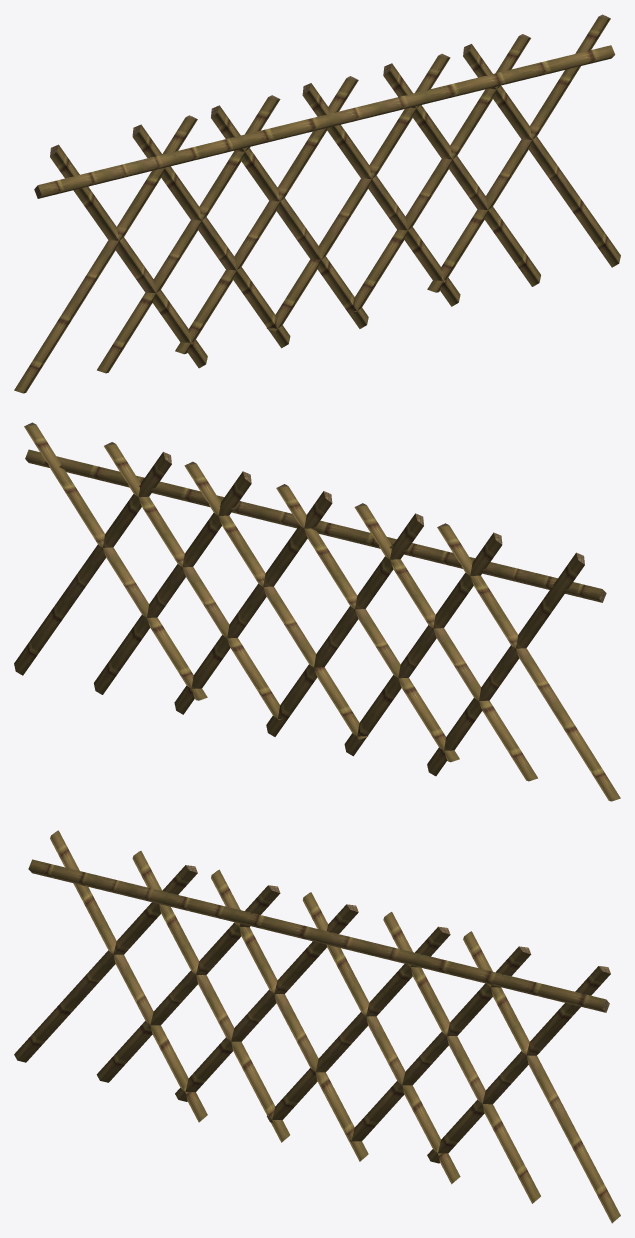
3 views of the same model, one above another, from view 1: azimuth 30°, elevation 25°; view 2: azimuth 150°, elevation 25°; view 3: azimuth 330°, elevation 25° (orthographic).
Parts seen in each view (by area): view 1: MB0003_04_01; view 2: MB0003_04_01; view 3: MB0003_04_01.
Boxes of the visible parts, box(x1,y1,x2,y2) form: MB0003_04_01: box(14, 14, 620, 393); MB0003_04_01: box(14, 422, 620, 801); MB0003_04_01: box(14, 830, 620, 1223).
Size of the model in its own units: 3.56 by 1.45 by 0.0976.
